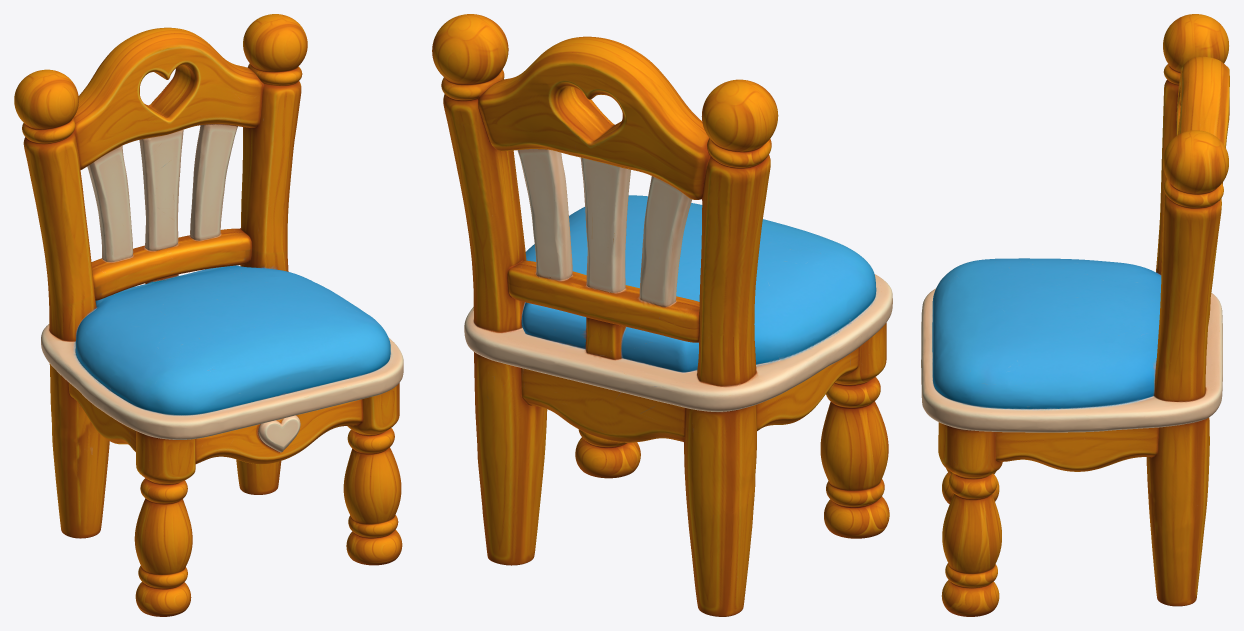
Rendered from wooden_chair_orig.glb.
The picture shows the model from 3 angles, left to right: view 1: azimuth 30°, elevation 25°; view 2: azimuth 150°, elevation 25°; view 3: azimuth 270°, elevation 25°; orthographic projection. The views are drawn at different scales.
Bounding box in the file's own units: 1.21 × 1.9 × 1.09.
1 material, 1 textured.
